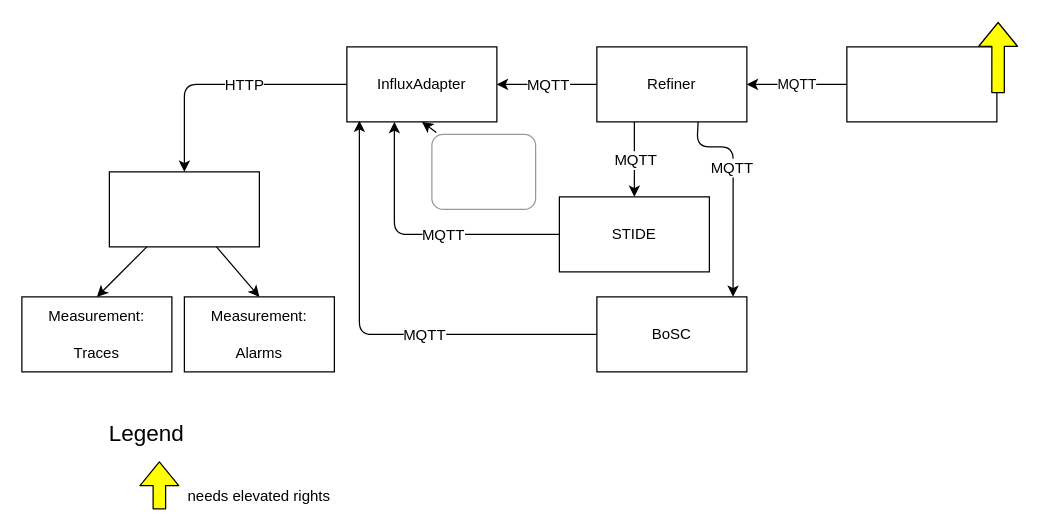
The diagram is 1040 pixels wide and 530 high, and some of its shapes have lost their labels. Each missing label, with the centre of its shape:
"does the batching and inserts alarms" goes at [483,171].
"InfluxDB" goes at [183,209].
"Tracer" goes at [921,84].
